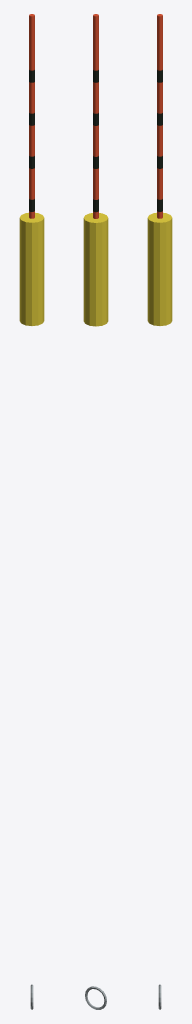
The model's file is float_hook.glb.
3 renders of one model, left to right at view 1: azimuth 90°, elevation 25°; view 2: azimuth 150°, elevation 25°; view 3: azimuth 270°, elevation 25°, orthographic.
Visible parts, largest first — view 1: Tai float body, Tai float antenna; view 2: Tai float body, Tai float antenna, Tai hook; view 3: Tai float body, Tai float antenna.
Boxes of the visible parts, x1=… form: Tai float body: x1=19, y1=212, x2=44, y2=325; Tai float antenna: x1=29, y1=14, x2=34, y2=218; Tai float body: x1=83, y1=213, x2=108, y2=326; Tai float antenna: x1=93, y1=14, x2=98, y2=218; Tai hook: x1=85, y1=986, x2=106, y2=1009; Tai float body: x1=147, y1=212, x2=172, y2=325; Tai float antenna: x1=157, y1=14, x2=162, y2=218.
Size of the model in its own units: 0.027 by 1.15 by 0.026.
